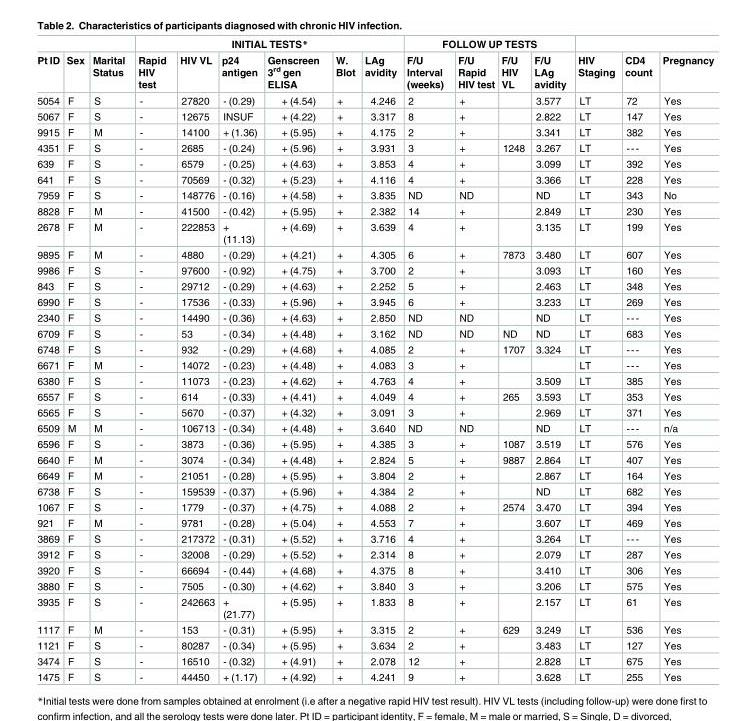table: (36, 37, 713, 682)
table column: (261, 37, 326, 682), (656, 37, 713, 682), (401, 37, 450, 682), (571, 37, 619, 682), (450, 37, 497, 682), (172, 37, 217, 682), (217, 37, 261, 682), (87, 37, 130, 682), (528, 37, 571, 682), (130, 37, 172, 682), (359, 37, 401, 682), (619, 37, 656, 682), (326, 37, 359, 682), (497, 37, 528, 682), (36, 37, 62, 682), (62, 37, 87, 682)
table column header: (36, 37, 713, 92)
table row: (36, 52, 713, 92), (36, 219, 713, 247), (36, 594, 713, 622), (36, 92, 713, 108), (36, 108, 713, 124), (36, 124, 713, 140), (36, 140, 713, 156), (36, 171, 713, 187), (36, 187, 713, 203), (36, 203, 713, 219), (36, 262, 713, 278), (36, 278, 713, 294), (36, 294, 713, 310), (36, 325, 713, 341), (36, 341, 713, 357), (36, 357, 713, 373), (36, 373, 713, 389), (36, 404, 713, 420), (36, 420, 713, 436), (36, 436, 713, 452), (36, 452, 713, 468), (36, 483, 713, 499), (36, 499, 713, 515), (36, 515, 713, 531), (36, 546, 713, 562), (36, 562, 713, 578), (36, 578, 713, 594), (36, 637, 713, 653), (36, 653, 713, 669), (36, 37, 713, 52), (36, 156, 713, 171), (36, 247, 713, 262), (36, 310, 713, 325), (36, 389, 713, 404), (36, 468, 713, 483), (36, 531, 713, 546), (36, 622, 713, 637), (36, 669, 713, 682)
table spanning cell: (130, 37, 401, 52), (656, 37, 713, 92), (571, 37, 619, 92), (401, 37, 571, 52), (87, 37, 130, 92), (619, 37, 656, 92), (36, 37, 62, 92), (62, 37, 87, 92)
